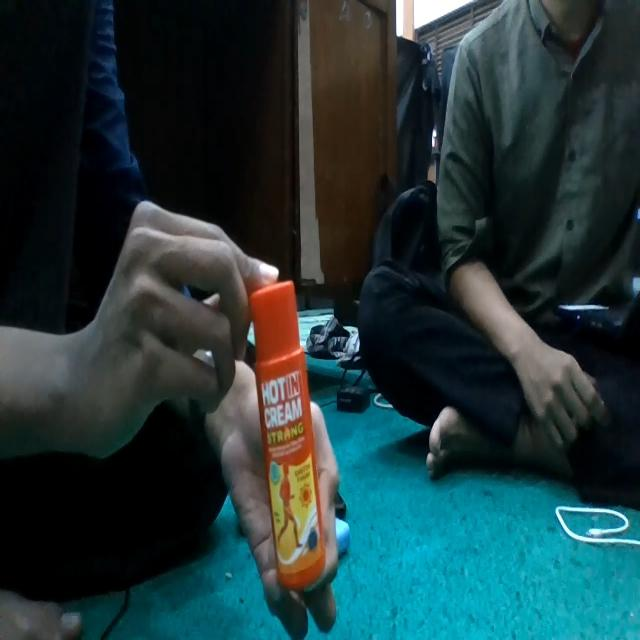Boncabe: (250, 282, 326, 590)
Powerbank: (335, 517, 350, 556)
